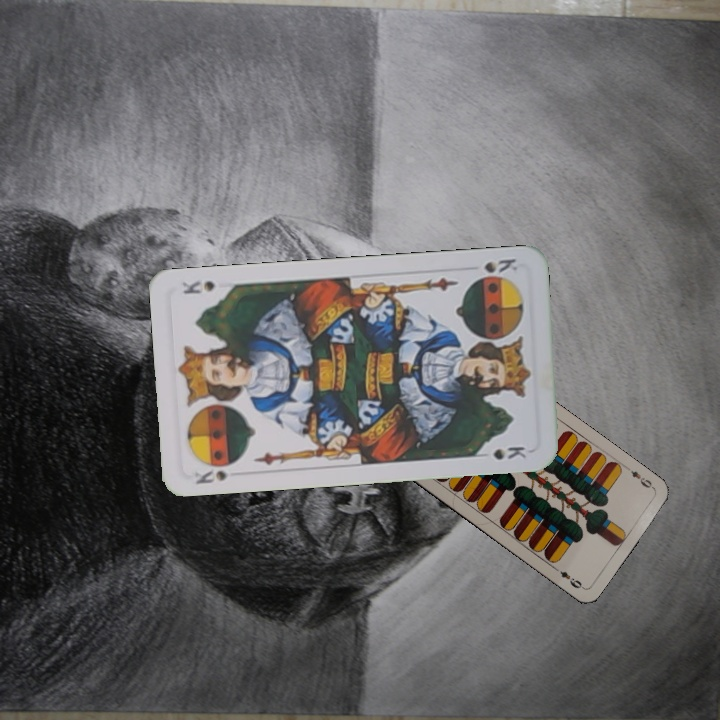E9: (622, 463, 657, 492)
SK: (190, 466, 232, 487), (480, 254, 520, 276)
